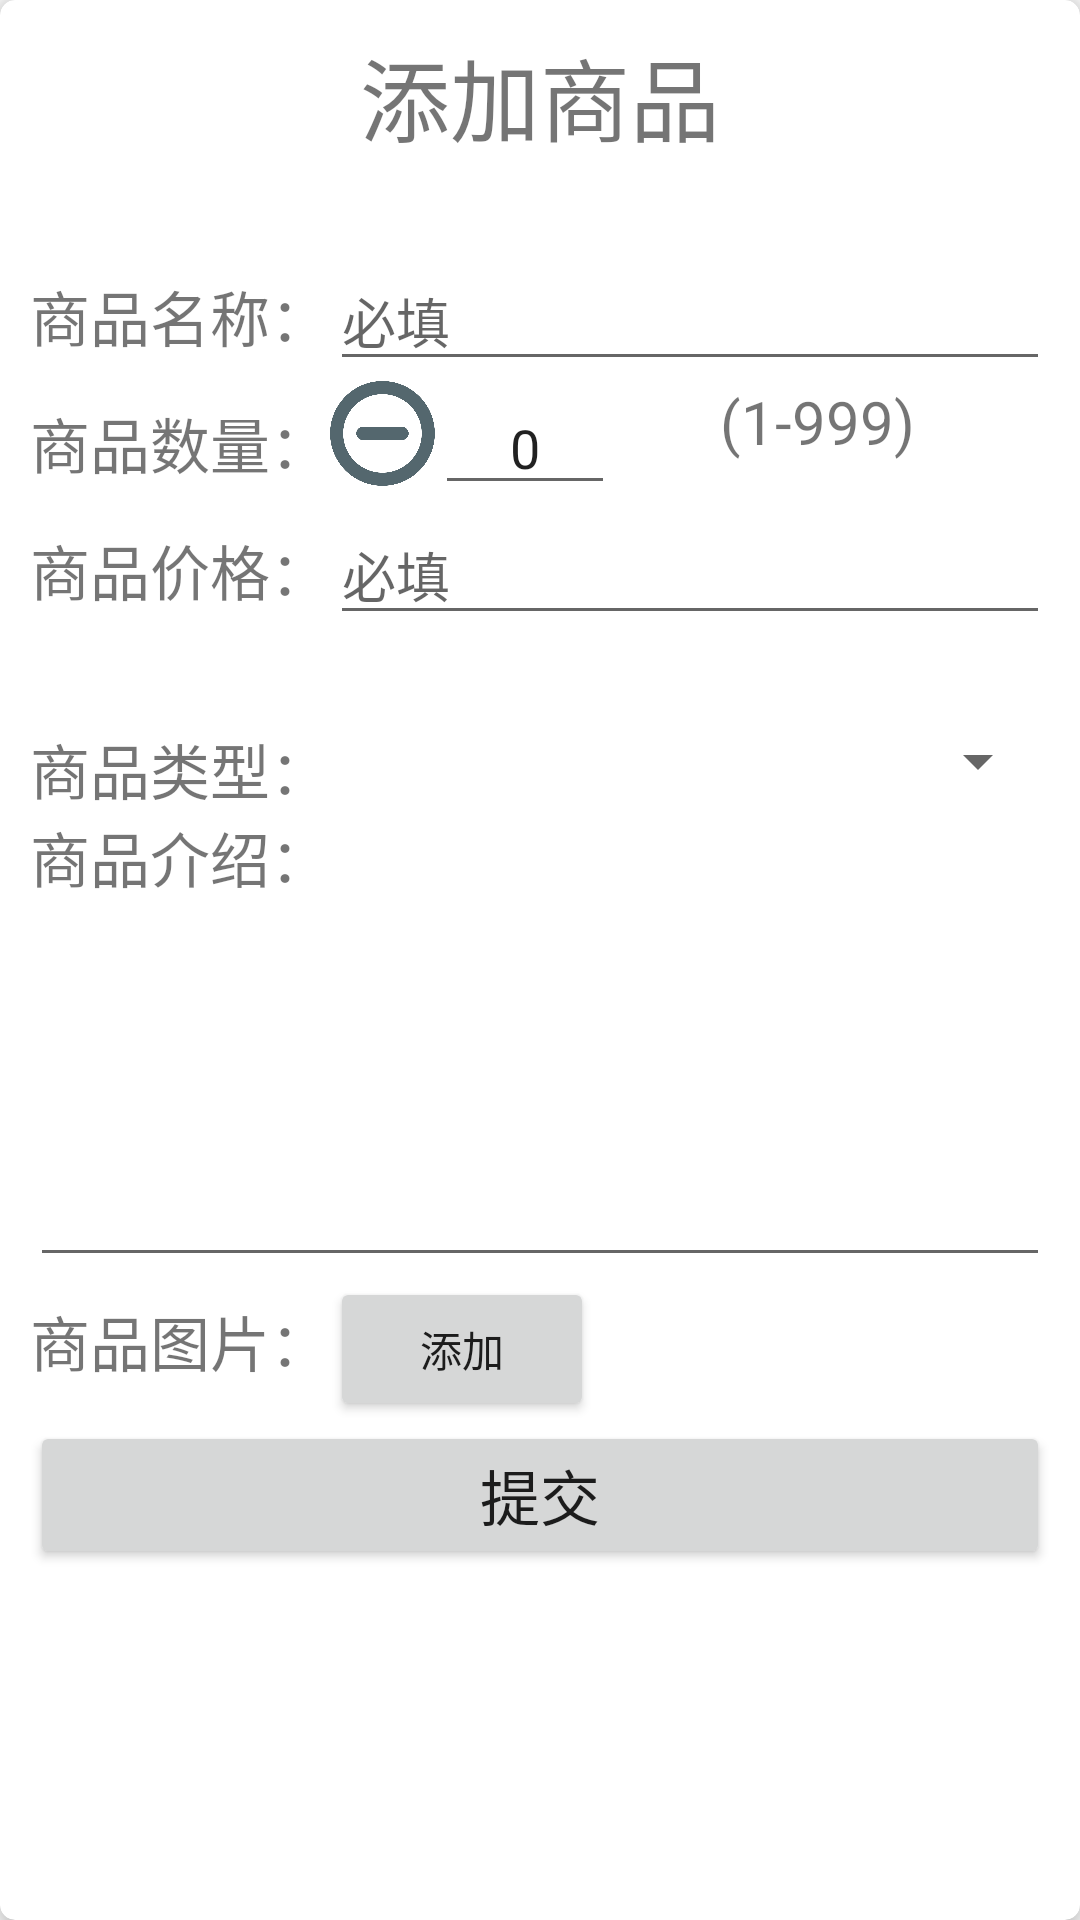

Icons on this 1080 × 1920 Android screen, each with the point to tap as point (x, y):
subbutton: point (382, 433)
